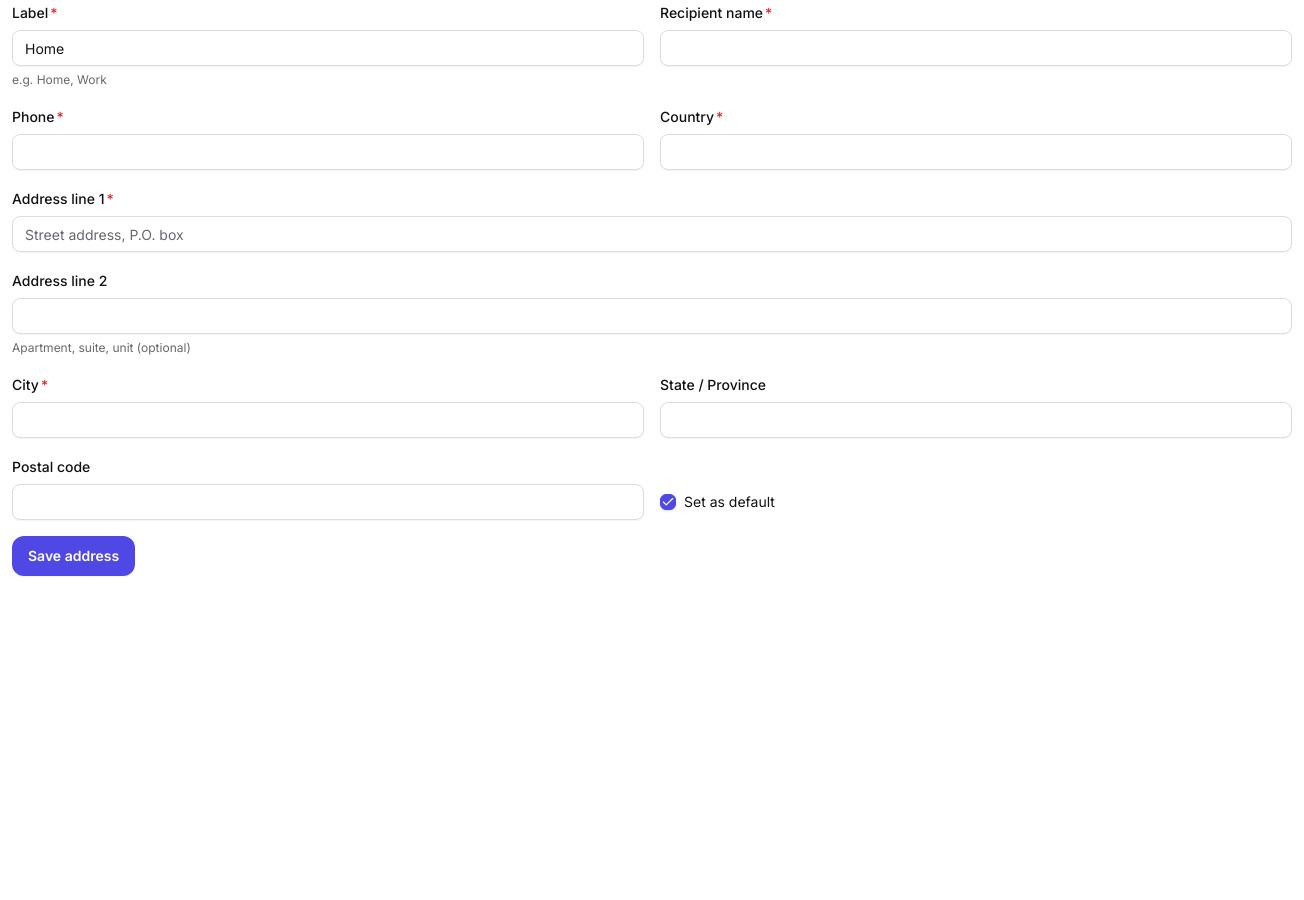
AddressForm (checkout / address book) › shows validation errors for required fields
Click the button "Save address".
click(74, 556)  # box [12, 536, 135, 576]
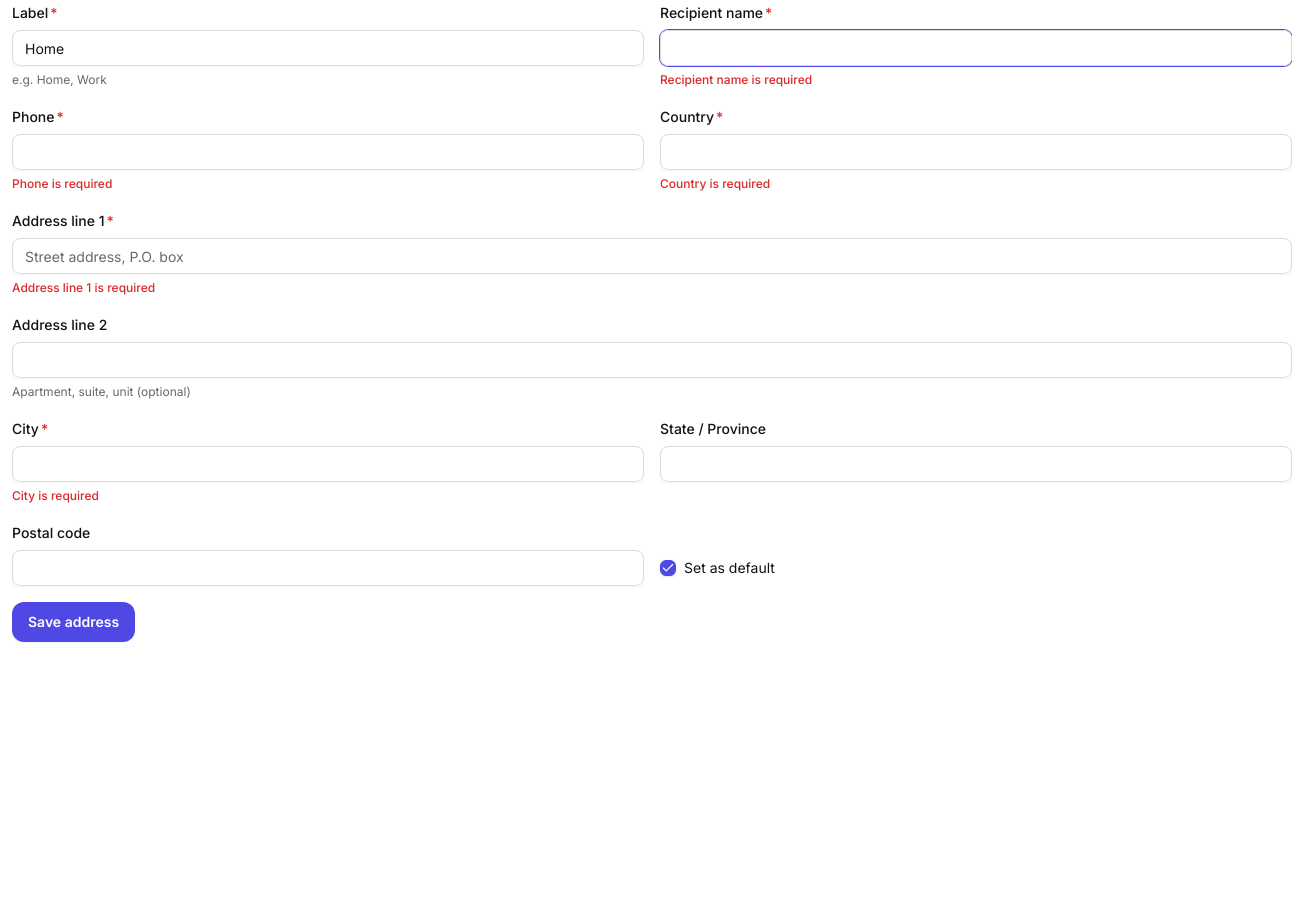
Now the text "Recipient name is required" is shown, box [660, 72, 812, 87]
Now the text "Phone is required" is shown, box [12, 176, 112, 191]
Now the text "Address line 1 is required" is shown, box [12, 280, 155, 295]
